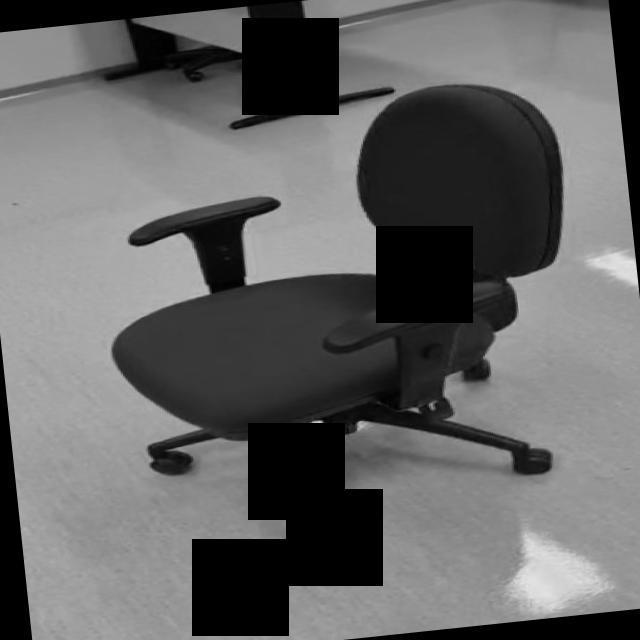chair: (88, 72, 602, 564)
